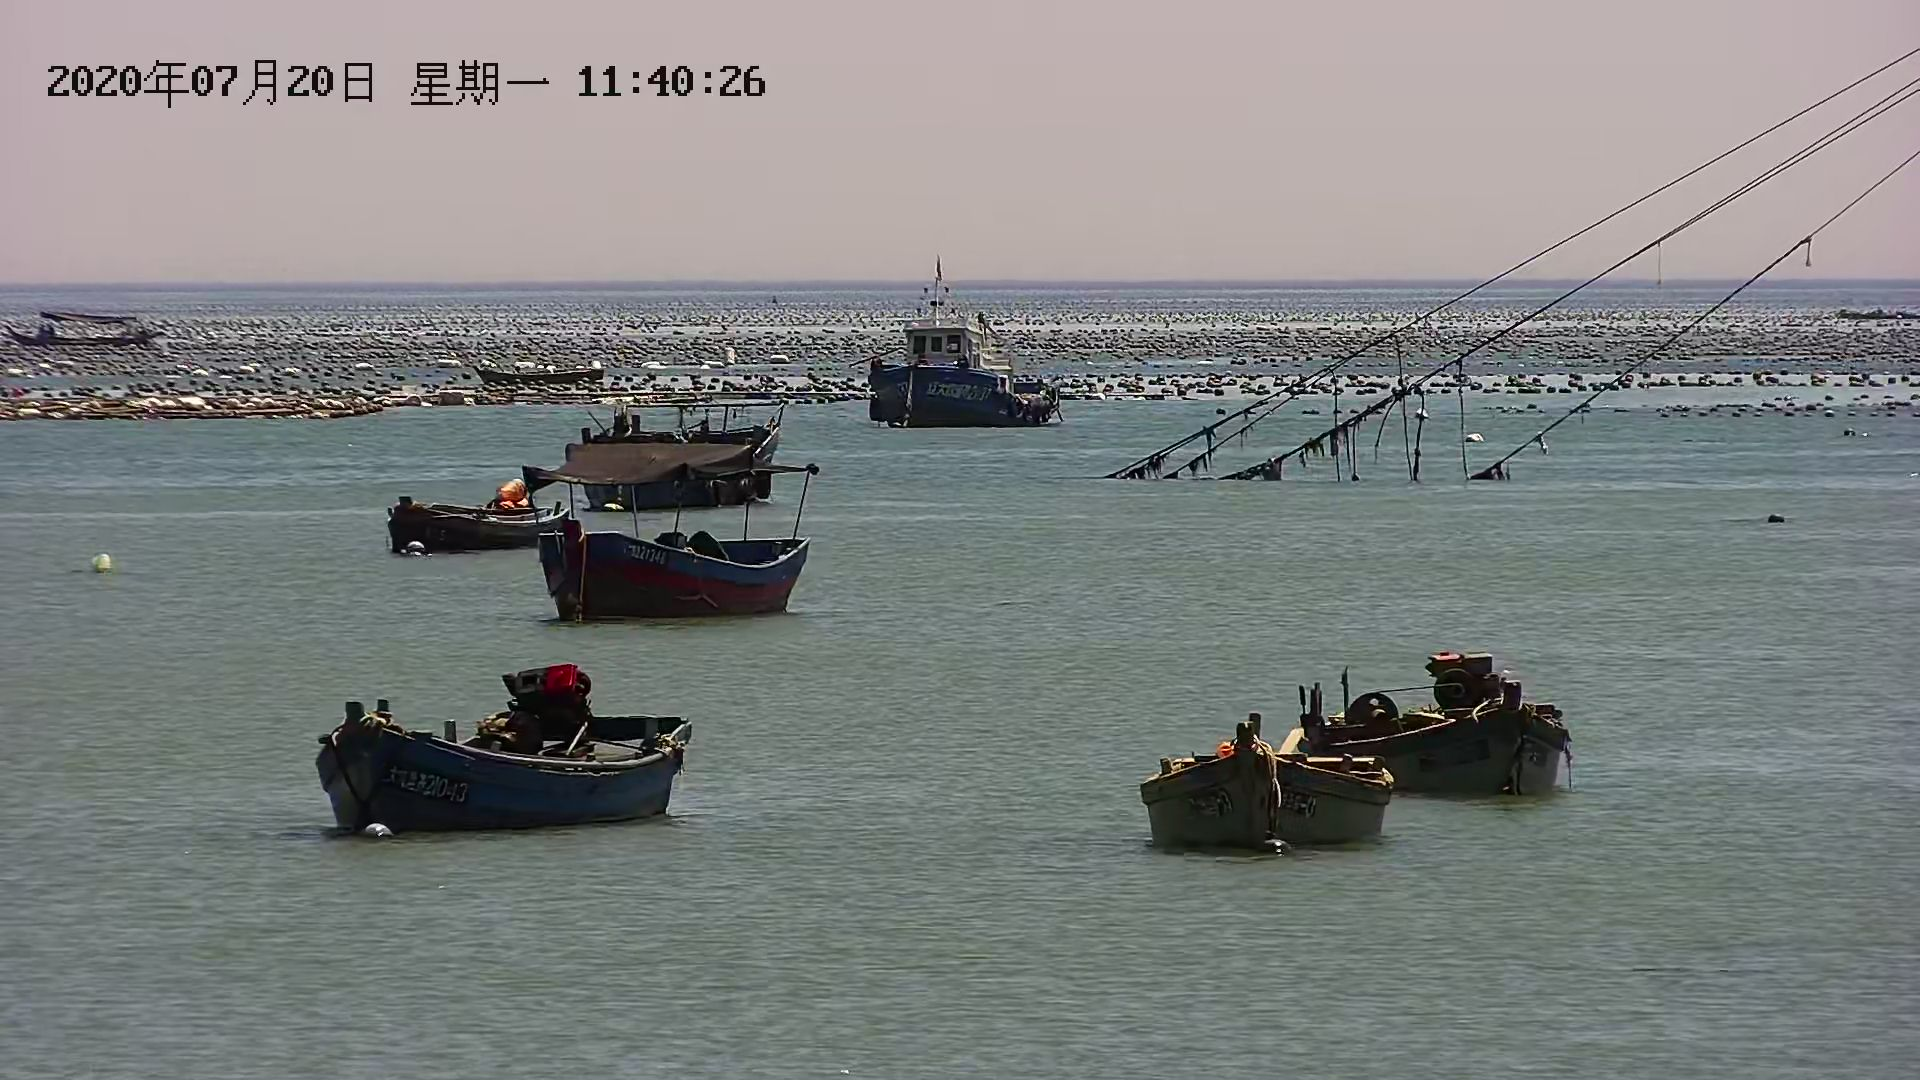boat: (318, 663, 692, 836), (1280, 650, 1573, 795), (1137, 721, 1396, 853), (530, 524, 828, 620), (877, 287, 1065, 430), (556, 409, 786, 509), (388, 480, 566, 556)
